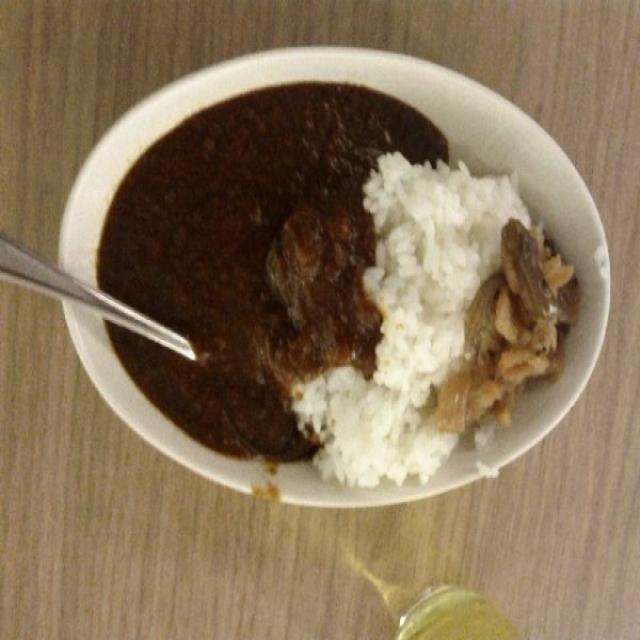Beef Curry: (106, 101, 378, 454)
